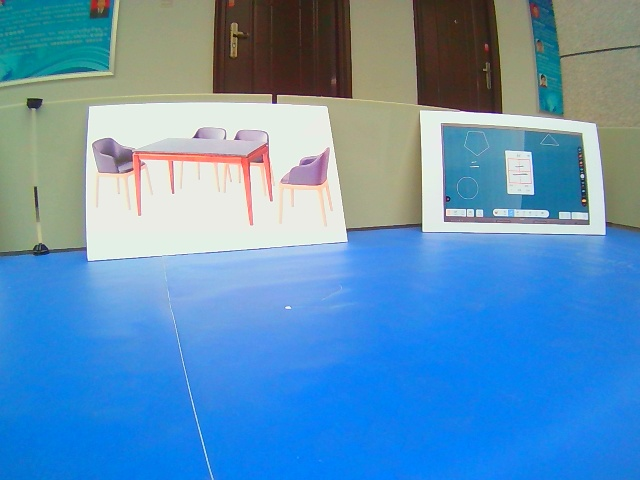table: (83, 102, 350, 261)
tv: (418, 110, 609, 239)
